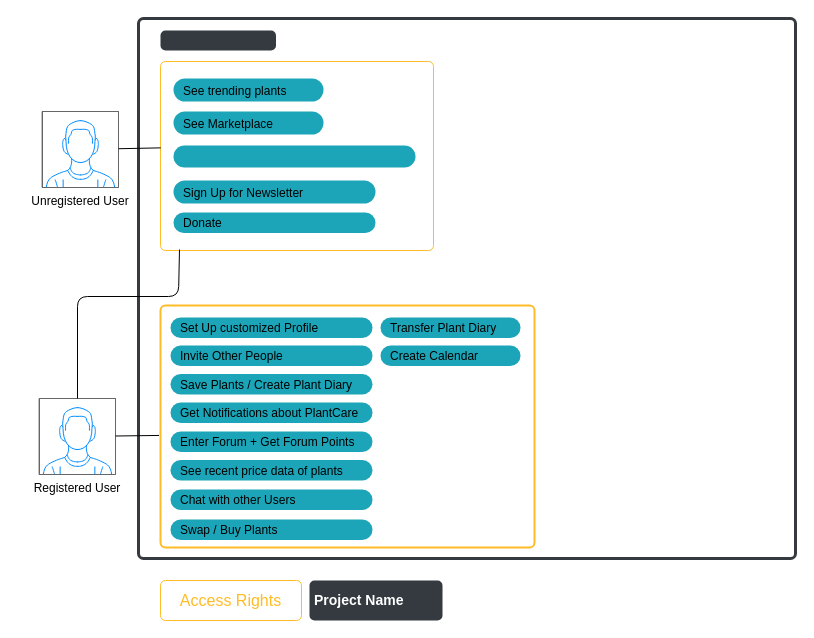
This 814x638 diagram has some shape labels left out. Here are the shapes that lost their labels. From the top down, the centre of each, then its label:
(218,40): PlantsHub App
(294,156): Access information about PlantsHub
